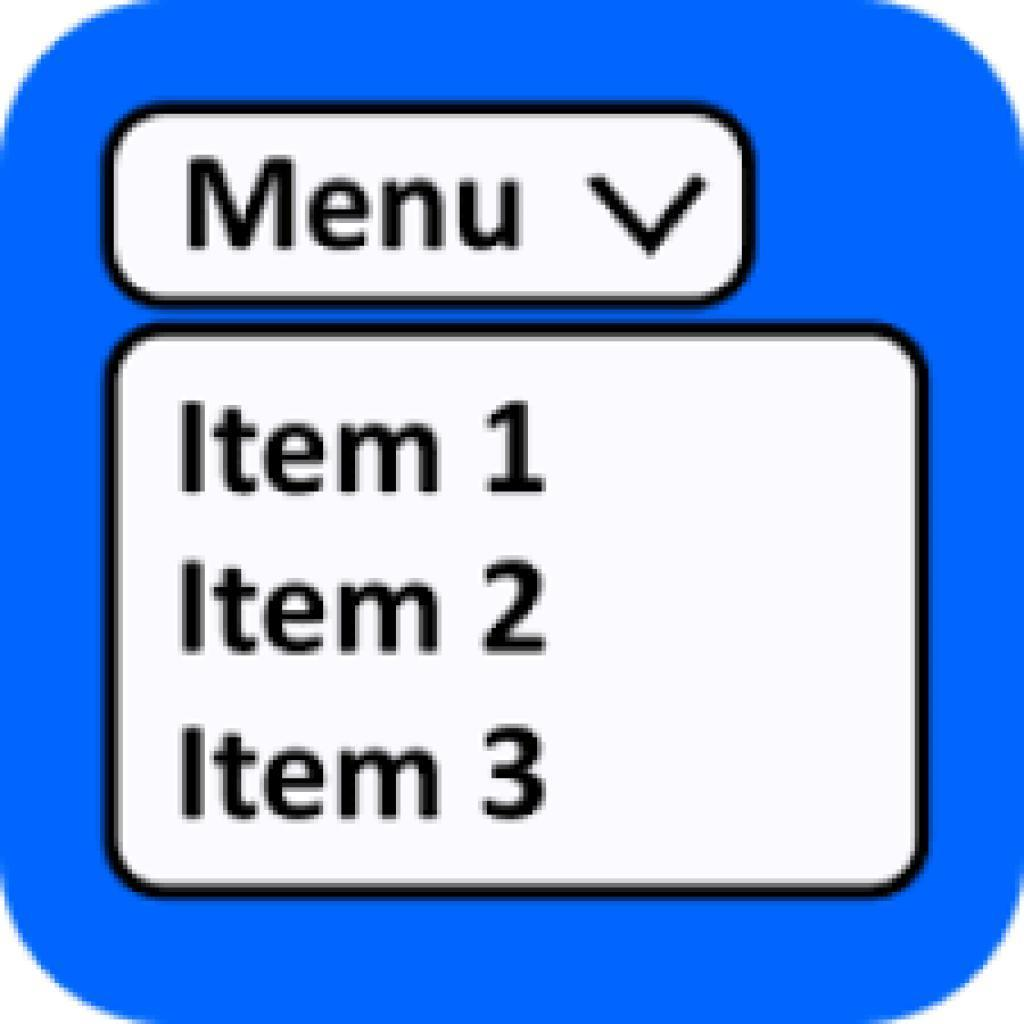dropdown: (109, 104, 748, 309)
